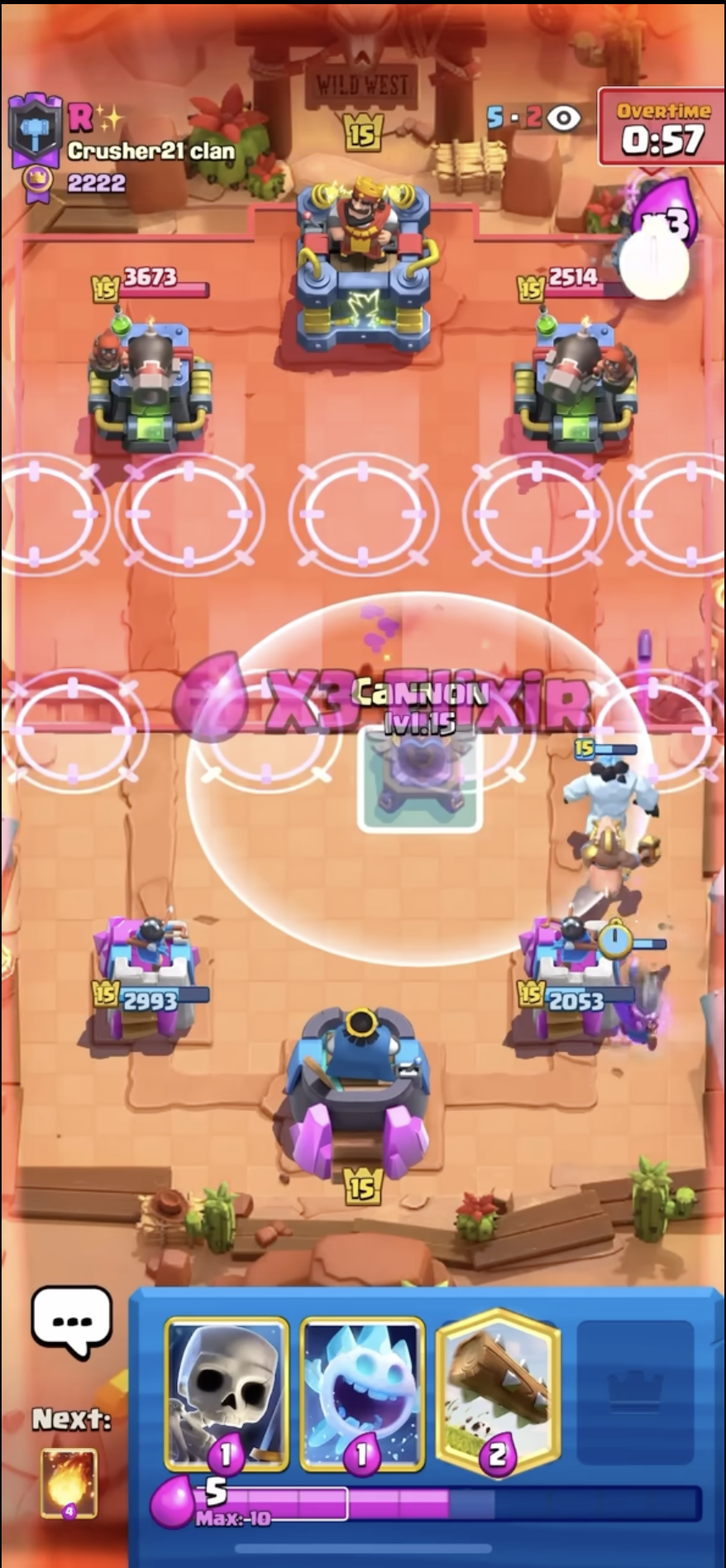evo-musketeer: (617, 924, 679, 1062)
hog-rider: (567, 814, 661, 908)
ice-golem: (565, 729, 665, 841)
